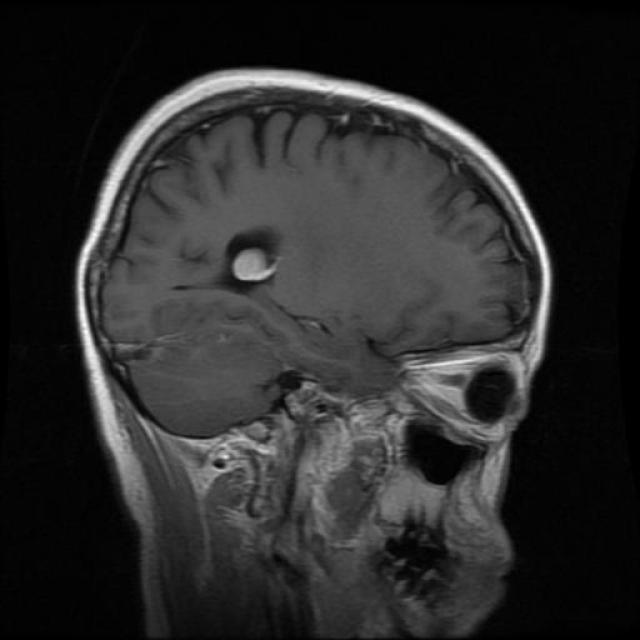Brain-Tumor: (219, 224, 293, 298)
eye: (391, 334, 542, 444)
